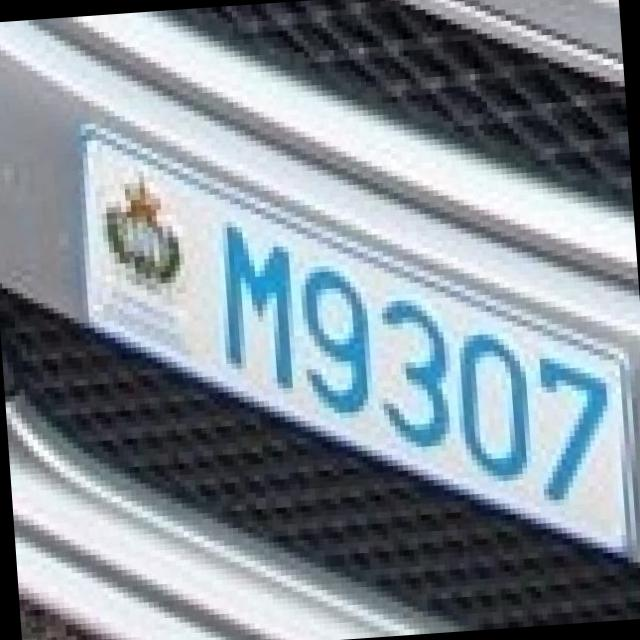0: (431, 308, 542, 484)
3: (350, 280, 461, 456)
7: (508, 325, 624, 508)
9: (277, 240, 379, 416)
M: (195, 200, 307, 392)
